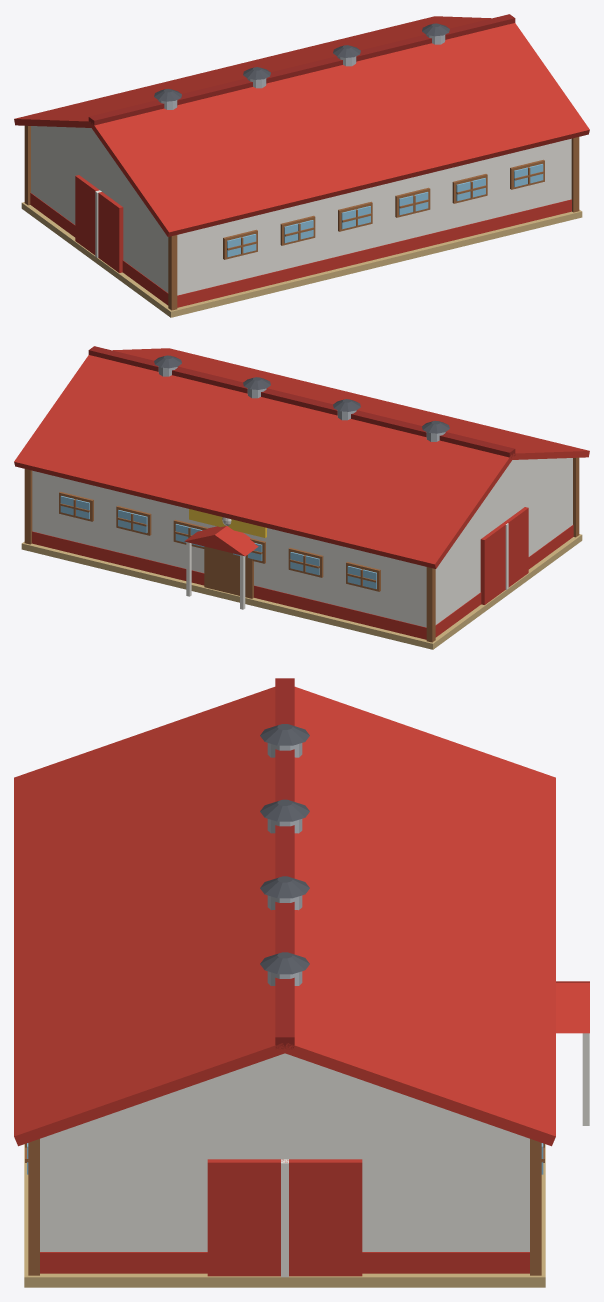
Rendered from PoultryHall.fbx.
3 views of the same model, one above another, from view 1: azimuth 30°, elevation 25°; view 2: azimuth 150°, elevation 25°; view 3: azimuth 270°, elevation 25° (orthographic). The views are drawn at different scales.
Parts seen in each view (by area): view 1: PoultryHall; view 2: PoultryHall; view 3: PoultryHall.
Part boxes in pixels (x1,y1,x2,y2): PoultryHall: (14, 14, 589, 317); PoultryHall: (14, 346, 589, 649); PoultryHall: (14, 678, 589, 1287).
Bounding box in the file's own units: 1232 × 434 × 836.
